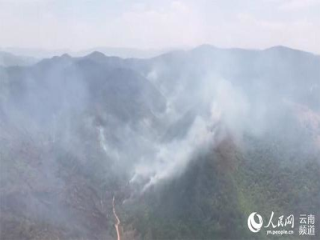smoke: (187, 42, 299, 154), (106, 102, 245, 191)
